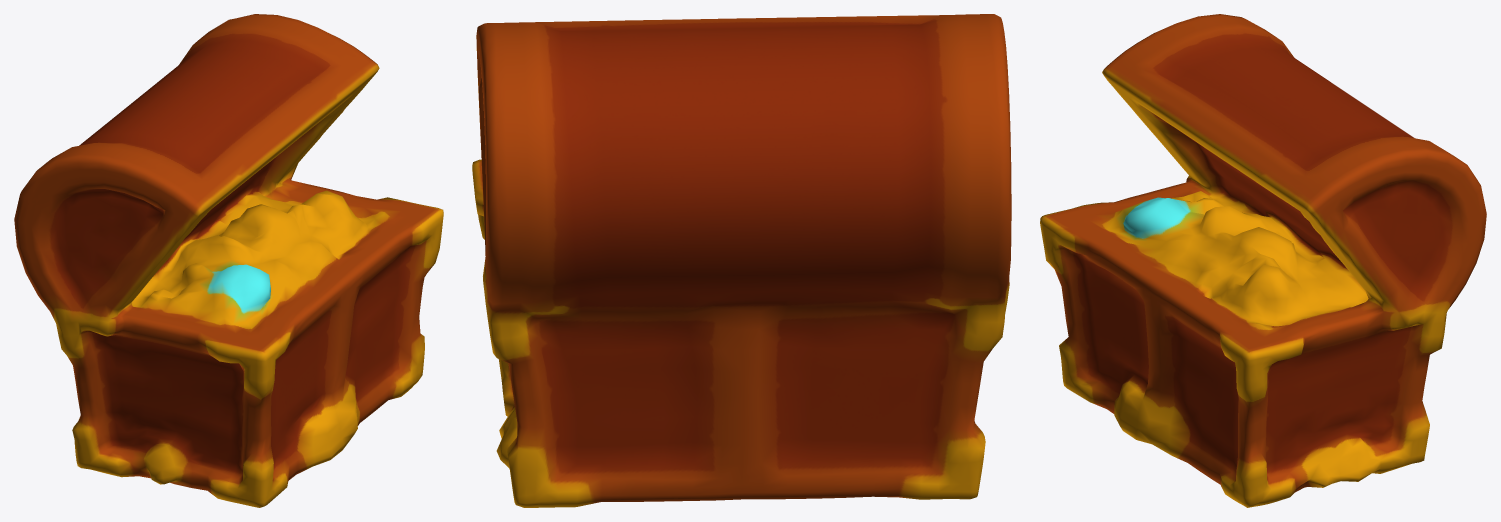
Rendered from TreasureChest1.glb.
3 views of the same model, side by side, from view 1: azimuth 30°, elevation 25°; view 2: azimuth 150°, elevation 25°; view 3: azimuth 270°, elevation 25° (orthographic). The views are drawn at different scales.
Visible parts, largest first — view 1: TreasureChest1; view 2: TreasureChest1; view 3: TreasureChest1.
Part boxes in pixels (x1,y1,x2,y2): TreasureChest1: (14, 14, 443, 507); TreasureChest1: (472, 14, 1011, 507); TreasureChest1: (1040, 14, 1486, 507).
Bounding box in the file's own units: 0.00975 × 0.0073 × 0.00908.
1 material, 1 textured.
